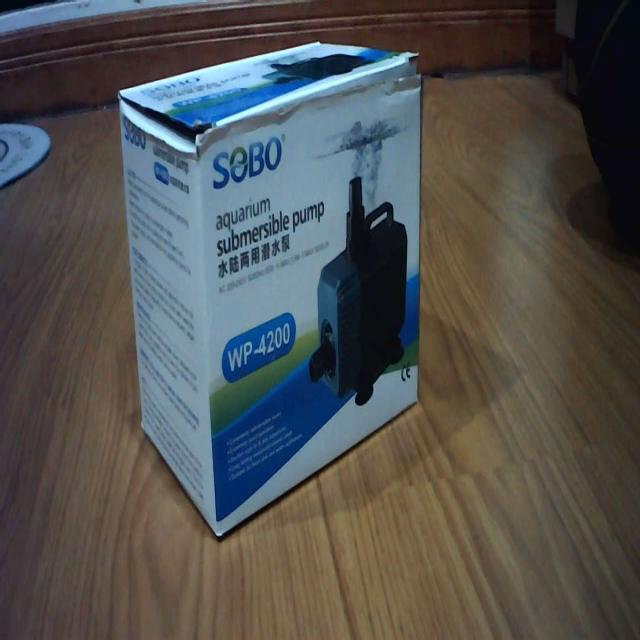SOBO_WP_4200: (112, 25, 436, 550)
